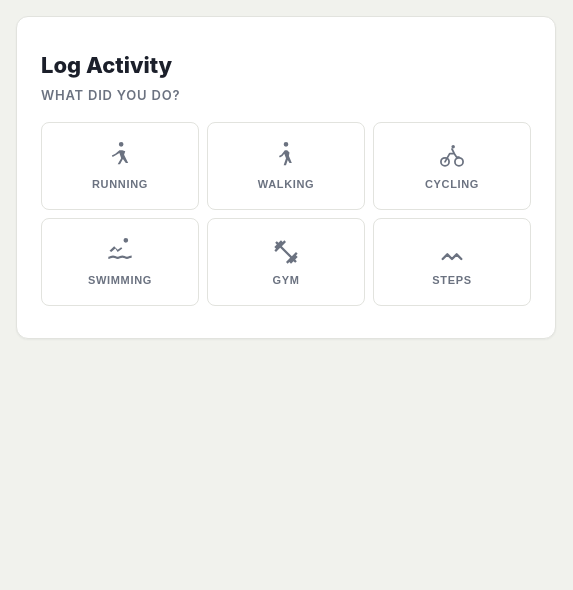
Test: LogActivity › shows hours+minutes for swimming
This screenshot has width=573, height=590.
Click the radio button labelled "Swimming".
click(120, 262)  # box 41,218 -> 199,306
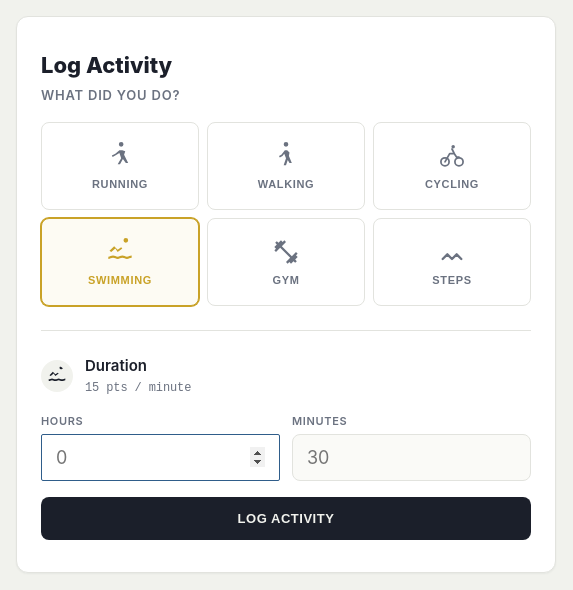
Expected: the text "Hours" is shown, 41,414 -> 83,428
Expected: the text "Minutes" is shown, 292,414 -> 347,428
